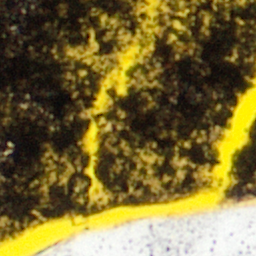cement_matrix: (0, 0, 142, 237), (95, 0, 255, 203), (228, 121, 255, 197), (141, 153, 154, 165), (176, 158, 184, 170), (150, 180, 159, 188), (174, 22, 182, 30), (179, 6, 184, 11)
cracks: (0, 0, 255, 255), (142, 154, 153, 164), (177, 159, 183, 169), (151, 181, 158, 187), (175, 23, 181, 29), (180, 7, 183, 10)
gravel_crushed_stones: (35, 202, 255, 255)
